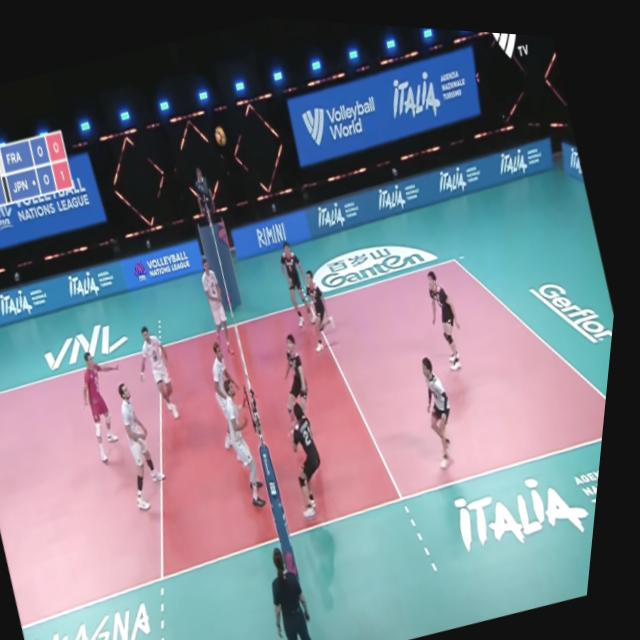player: (109, 375, 192, 515), (72, 339, 158, 465), (206, 377, 285, 509), (281, 392, 356, 519), (410, 342, 482, 468), (127, 313, 202, 431), (416, 252, 487, 376), (203, 335, 272, 448), (272, 324, 336, 429), (194, 250, 254, 359), (272, 231, 332, 336), (294, 255, 357, 355)
